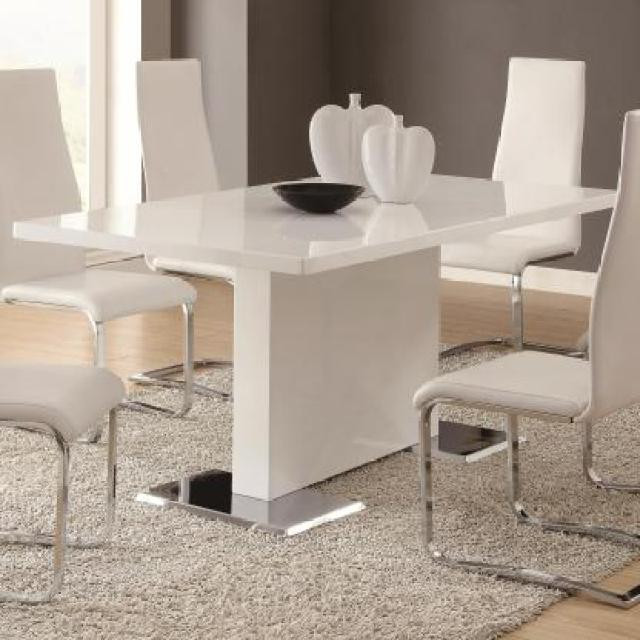floor: (0, 394, 640, 640), (432, 450, 640, 595), (519, 416, 640, 541), (104, 305, 184, 411), (439, 264, 515, 352), (521, 261, 597, 348), (0, 300, 94, 363), (176, 273, 235, 359), (594, 401, 640, 483), (439, 344, 515, 376), (87, 247, 171, 275), (439, 403, 509, 432), (195, 364, 234, 394), (159, 370, 184, 380)
